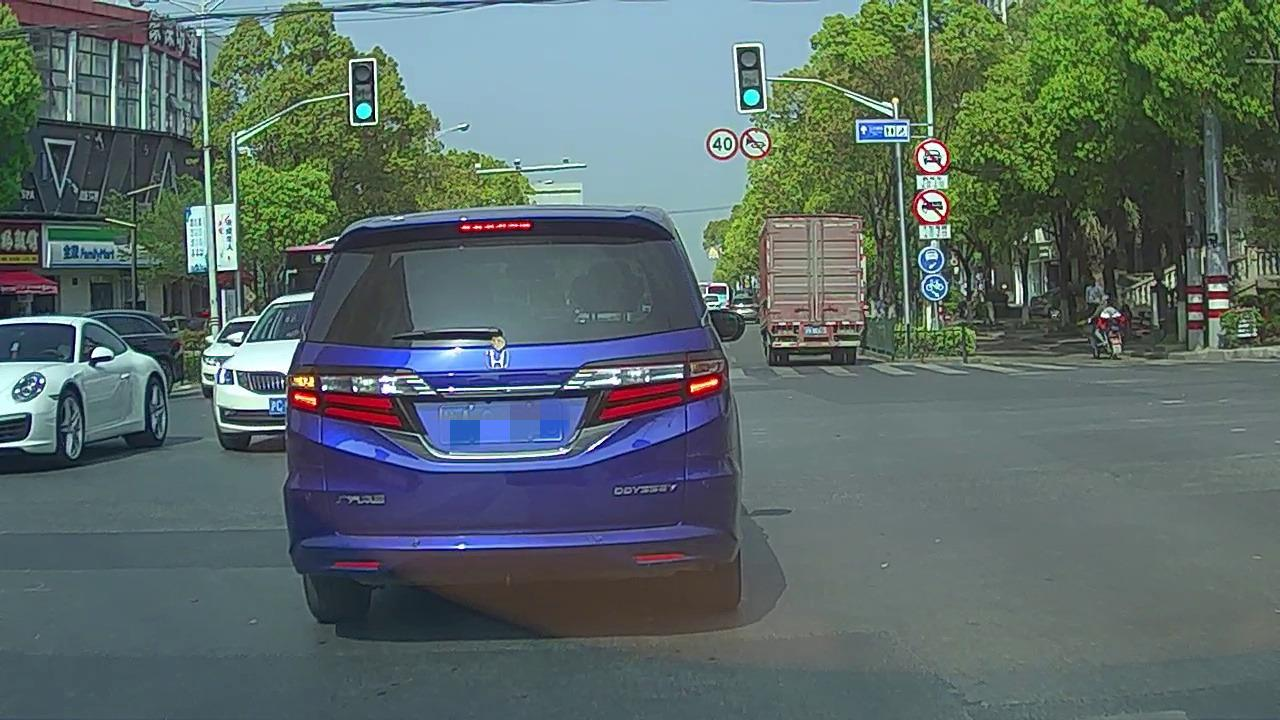traffic_light: (738, 45, 765, 112), (350, 60, 377, 124)
